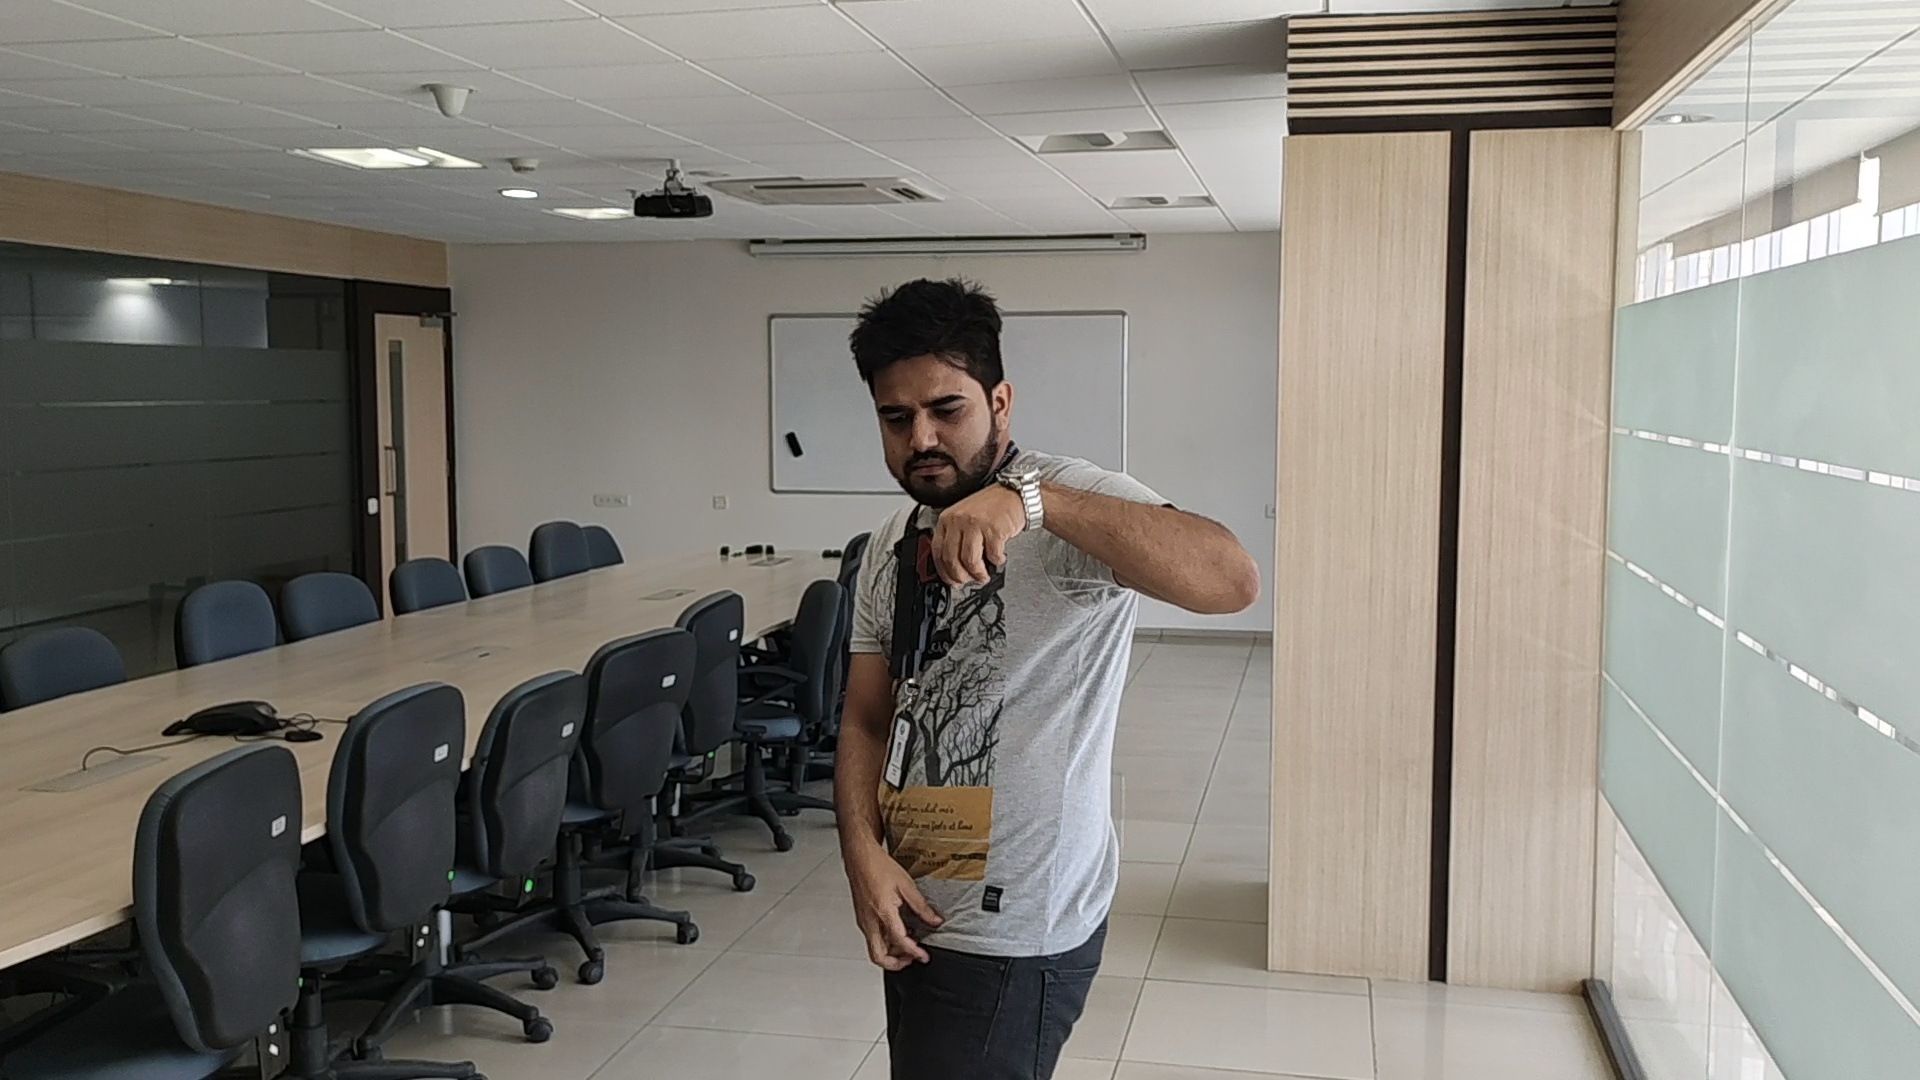gun: (890, 520, 935, 680)
